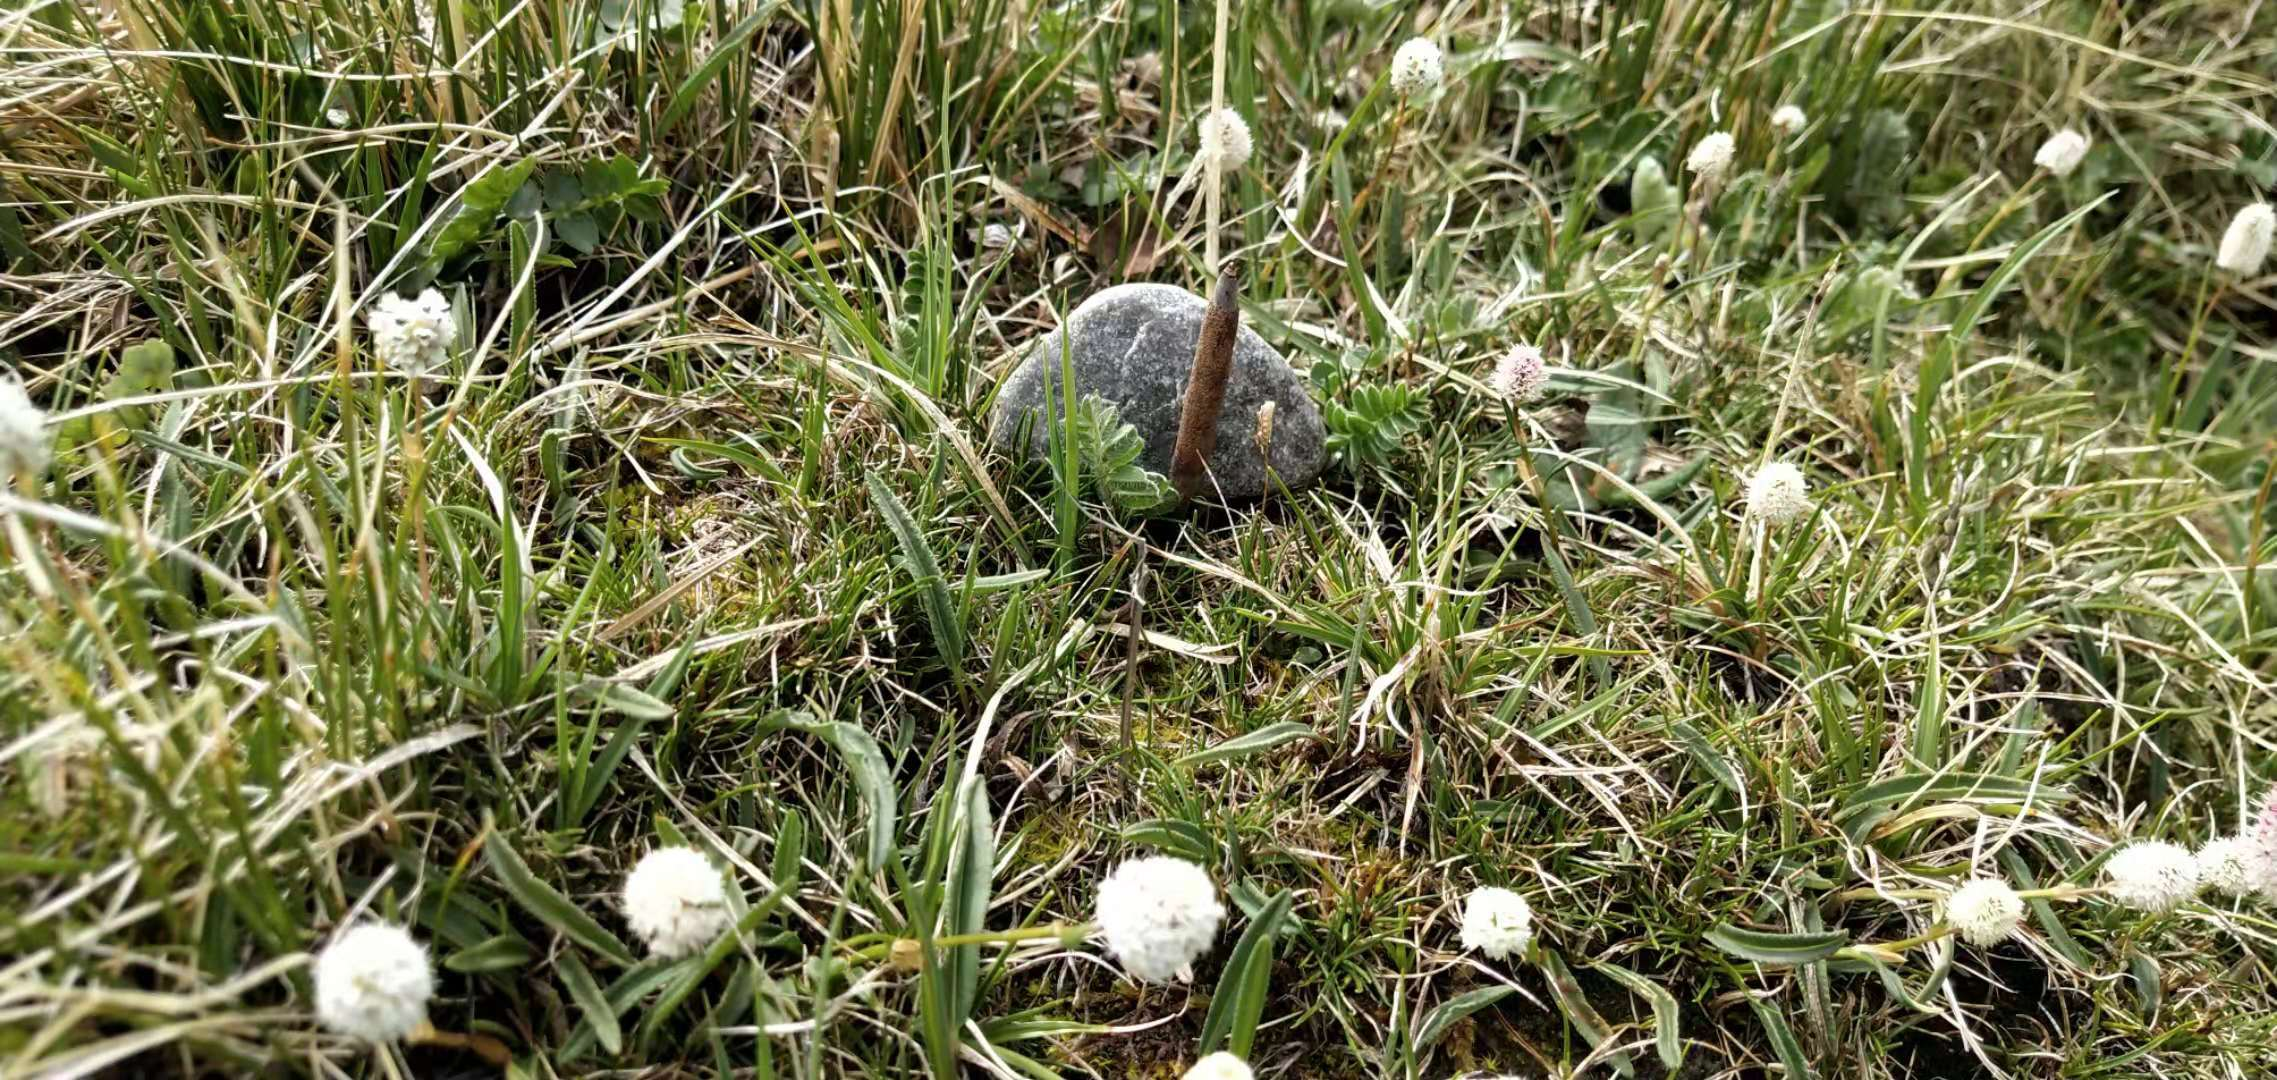cpf: (1165, 258, 1245, 504)
